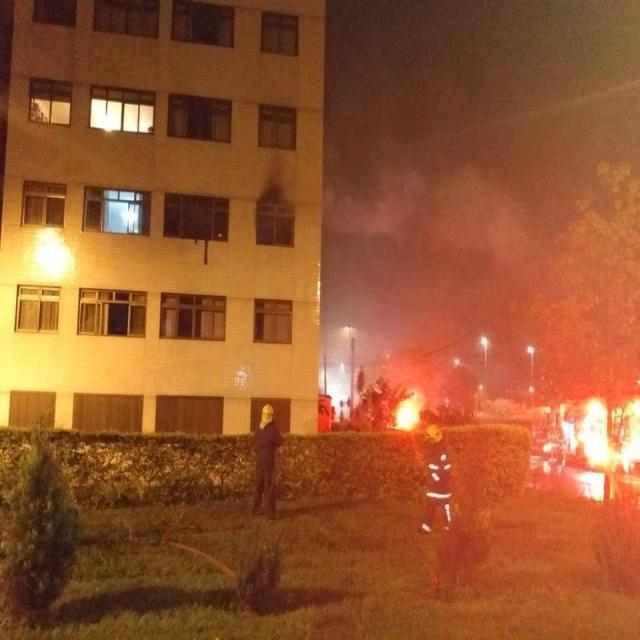Fire: (390, 384, 426, 428)
